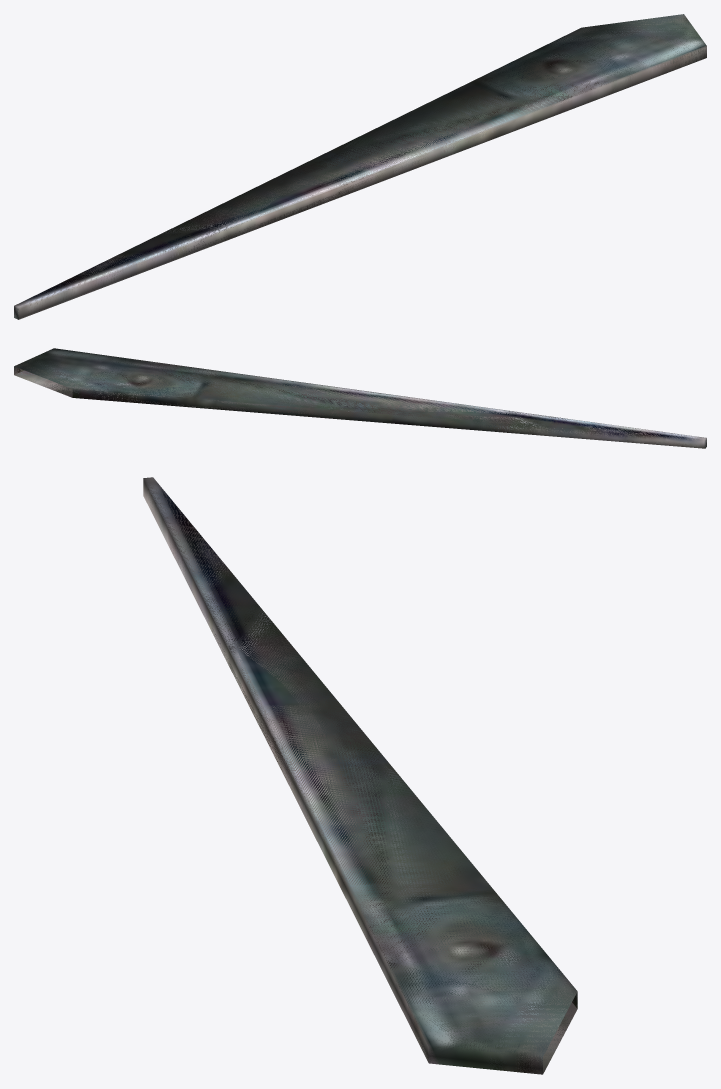
3 renders of one model, top to bottom at view 1: azimuth 30°, elevation 25°; view 2: azimuth 150°, elevation 25°; view 3: azimuth 270°, elevation 25°, orthographic. The views are drawn at different scales.
Size of the model in its own units: 1.1 by 0.0156 by 0.3477.
